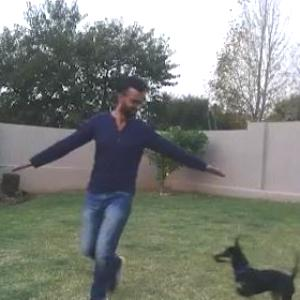land: (33, 80, 219, 285)
